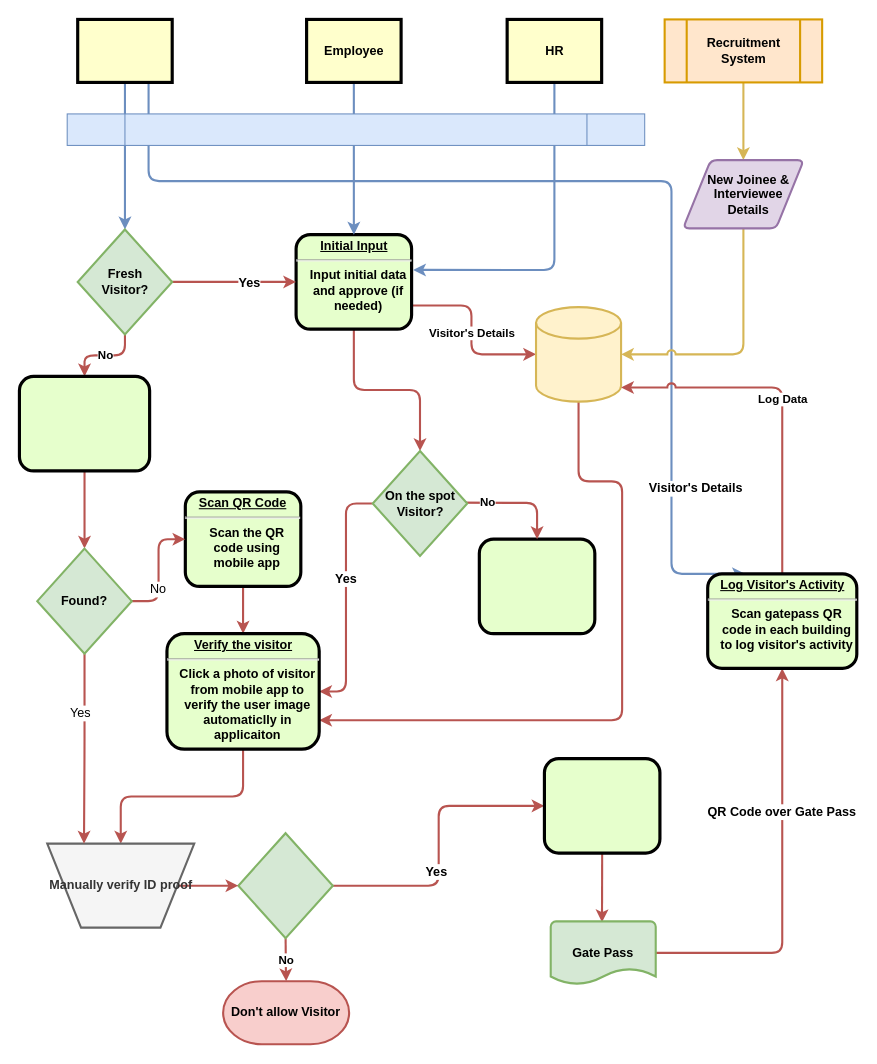
This 877x1064 diagram has some shape labels left out. Here are the shapes that lost their labels. From the top down, the centre of each, then its label:
[124,50]: Secirity Person
[355,129]: Authentication and Authorization System
[578,354]: VMS DB
[84,423]: Search By Photo Click a photo from camera and search for visitor
[536,586]: Generate QR Generate digitally signed QR Code and send via email
[601,805]: Print Gate Pass Generate Gate Pass with QR code and other visitor details
[285,885]: Verification Successful?
